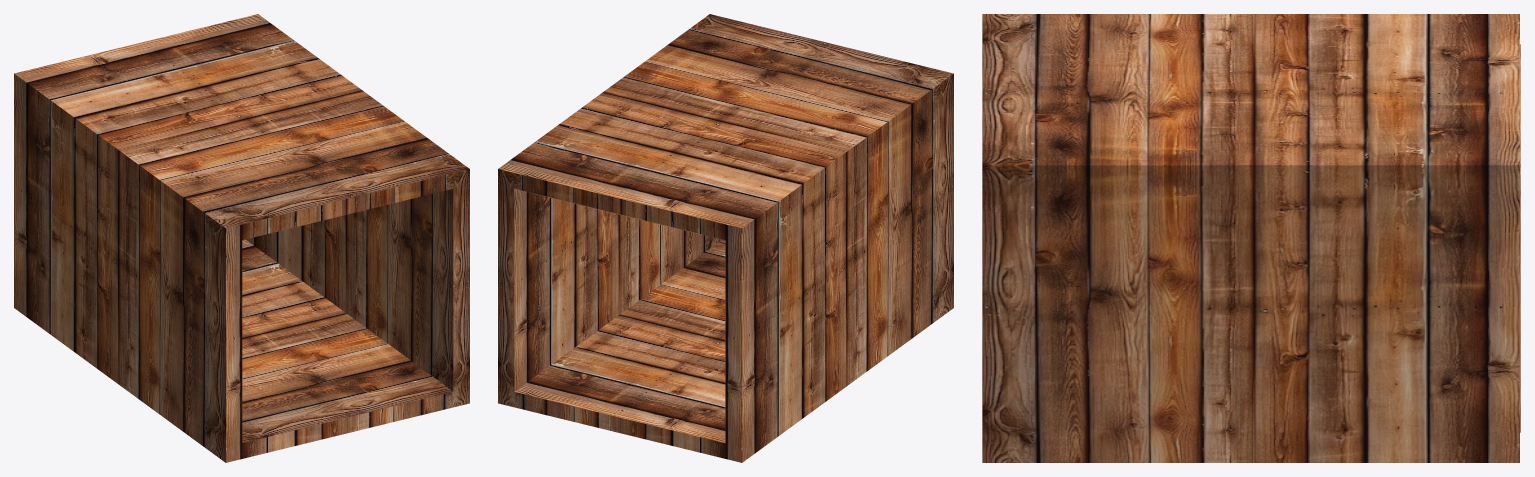
Rendered from N2Tuberia.fbx.
3 views of the same model, side by side, from view 1: azimuth 30°, elevation 25°; view 2: azimuth 150°, elevation 25°; view 3: azimuth 270°, elevation 25° (orthographic). The views are drawn at different scales.
Parts seen in each view (by area): view 1: Cube.010; view 2: Cube.010; view 3: Cube.010.
Boxes of the visible parts, bbox=[...] form: Cube.010: bbox=[14, 14, 469, 462]; Cube.010: bbox=[498, 14, 953, 462]; Cube.010: bbox=[982, 14, 1520, 462].
Bounding box in the file's own units: 474 × 435 × 713.
Materials: 1 (1 with a texture image).
